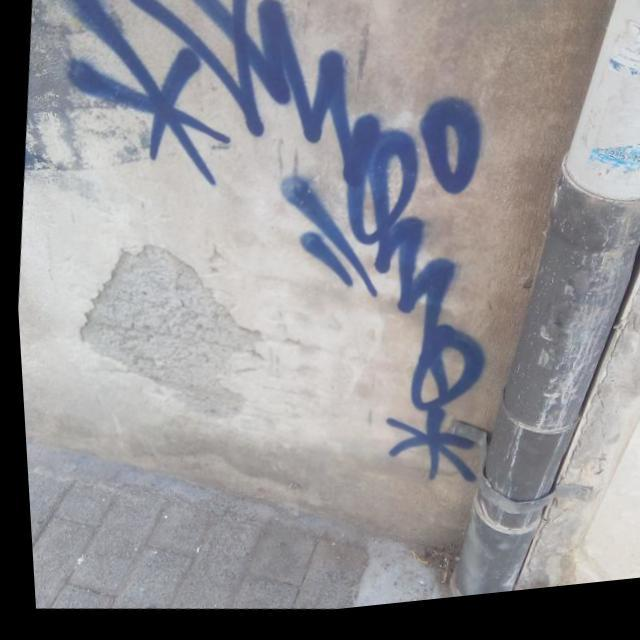-: (15, 0, 529, 530)
